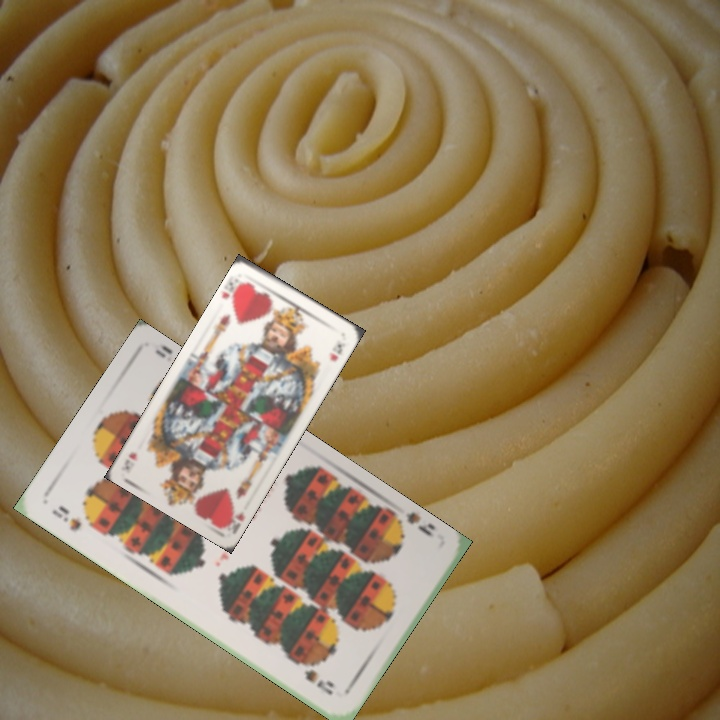HK: (217, 279, 247, 306), (228, 507, 247, 536)
S9: (388, 508, 438, 541), (48, 501, 84, 534)
